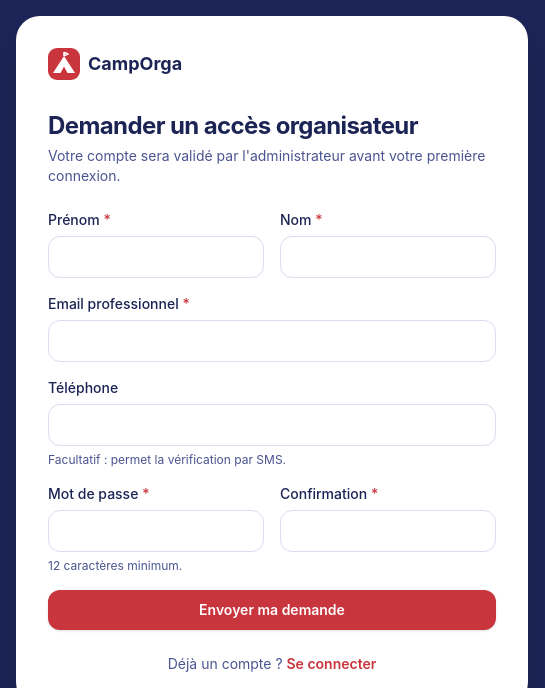
Double authentification et inscription › envoie la demande d'accès et explique la validation
Type "Grace" into the field labelled "Prénom *".
click(156, 257); type("Grace")  # box [48,236,264,278]
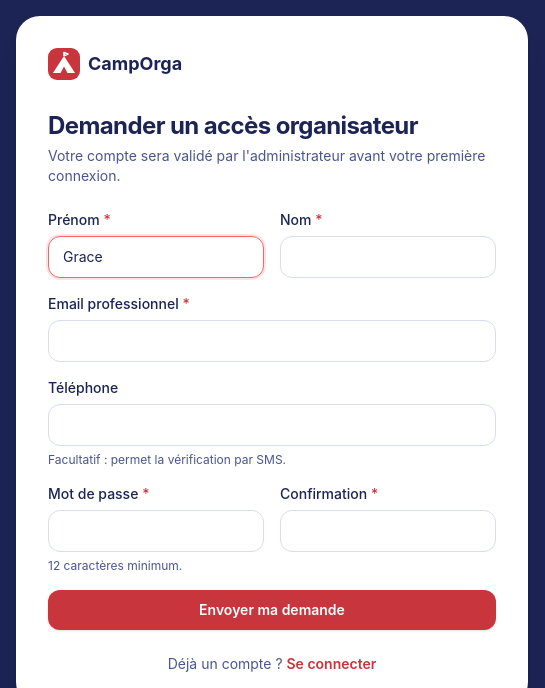
Type "Hopper" into the field labelled "Nom *".
click(388, 257); type("Hopper")  # box [280,236,496,278]
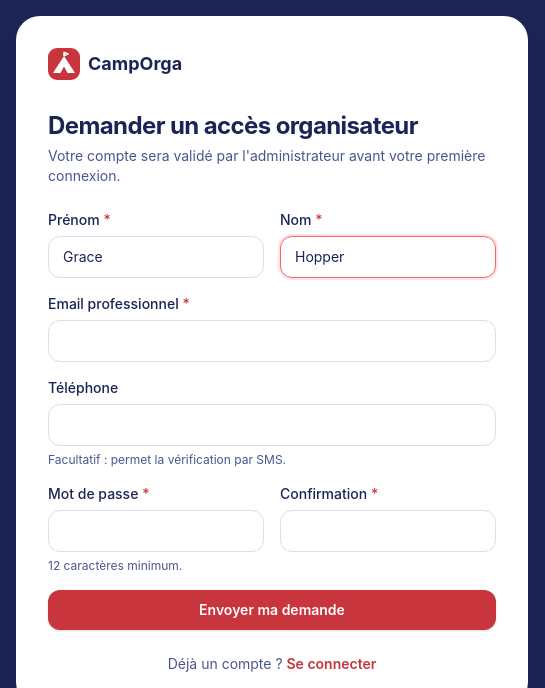
Type "grace@example.com" into the field labelled "Email professionnel *".
click(272, 341); type("grace@example.com")  # box [48,320,496,362]
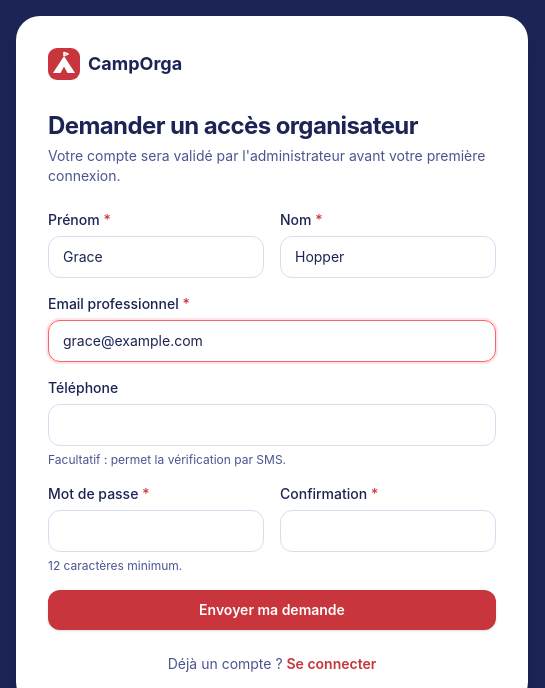
Type "un-mot-de-passe-solide" into the password field labelled "Mot de passe *".
click(156, 531); type("un-mot-de-passe-solide")  # box [48,510,264,552]
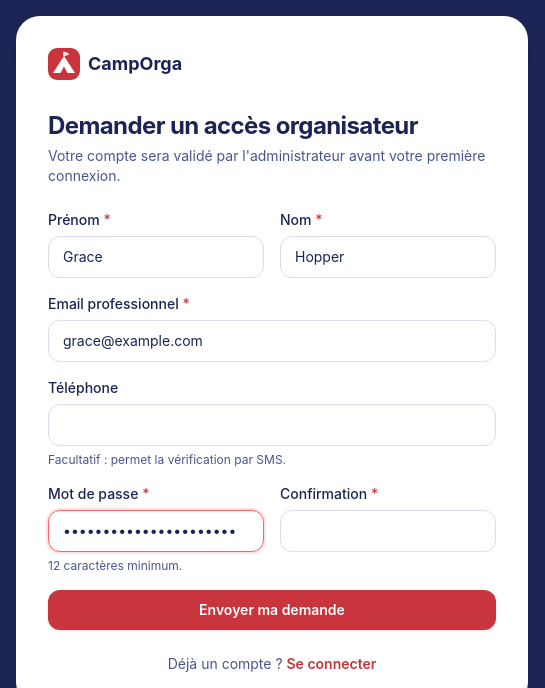
Type "un-mot-de-passe-solide" into the password field labelled "Confirmation *".
click(388, 531); type("un-mot-de-passe-solide")  # box [280,510,496,552]
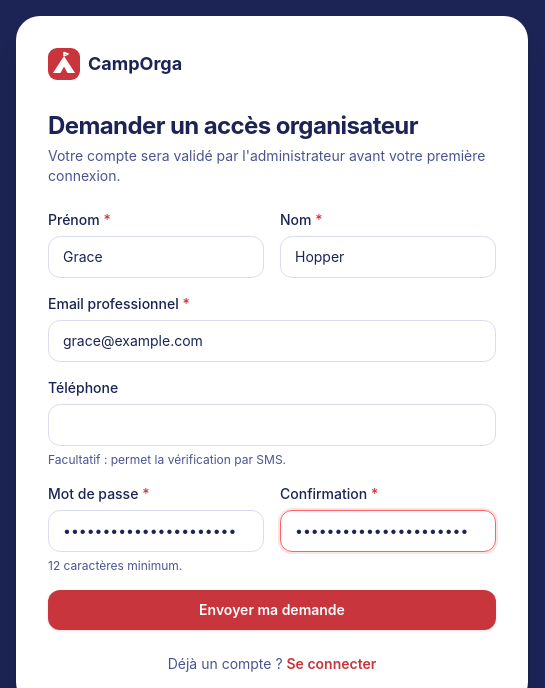
Click the button "Envoyer ma demande".
click(272, 610)  # box [48,590,496,630]
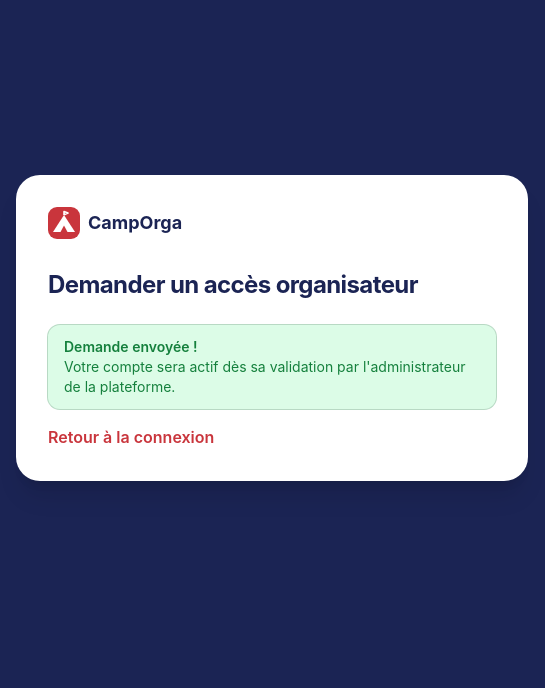
Expected: the text "Demande envoyée !" is shown, [64,338,198,355]
